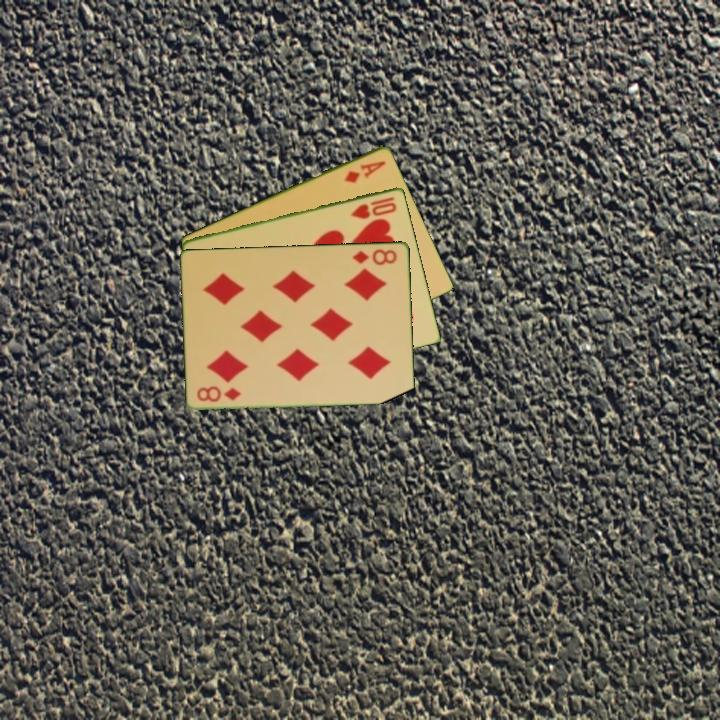10h: (347, 193, 399, 221)
8d: (349, 245, 400, 267), (194, 383, 244, 404)
Ad: (340, 157, 389, 186)
